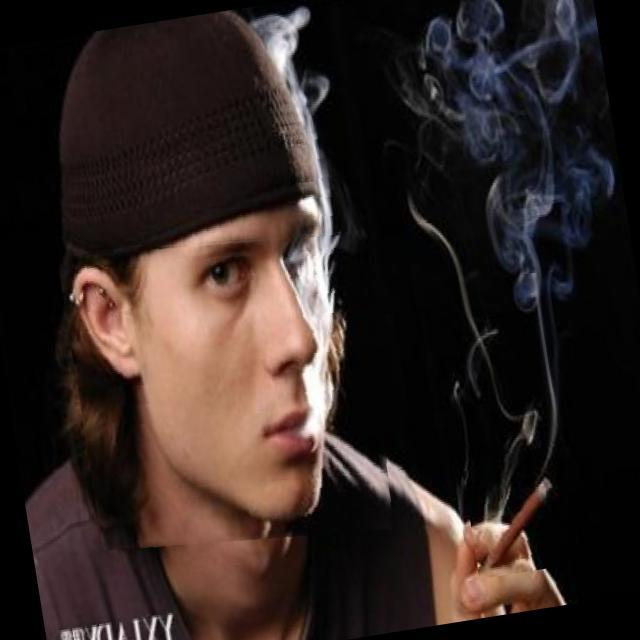cigarette: (461, 447, 584, 579)
